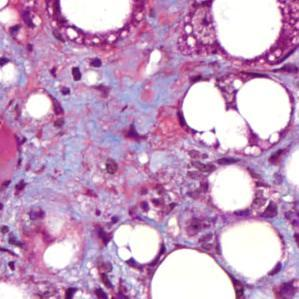steatosis: (204, 164, 258, 215)
